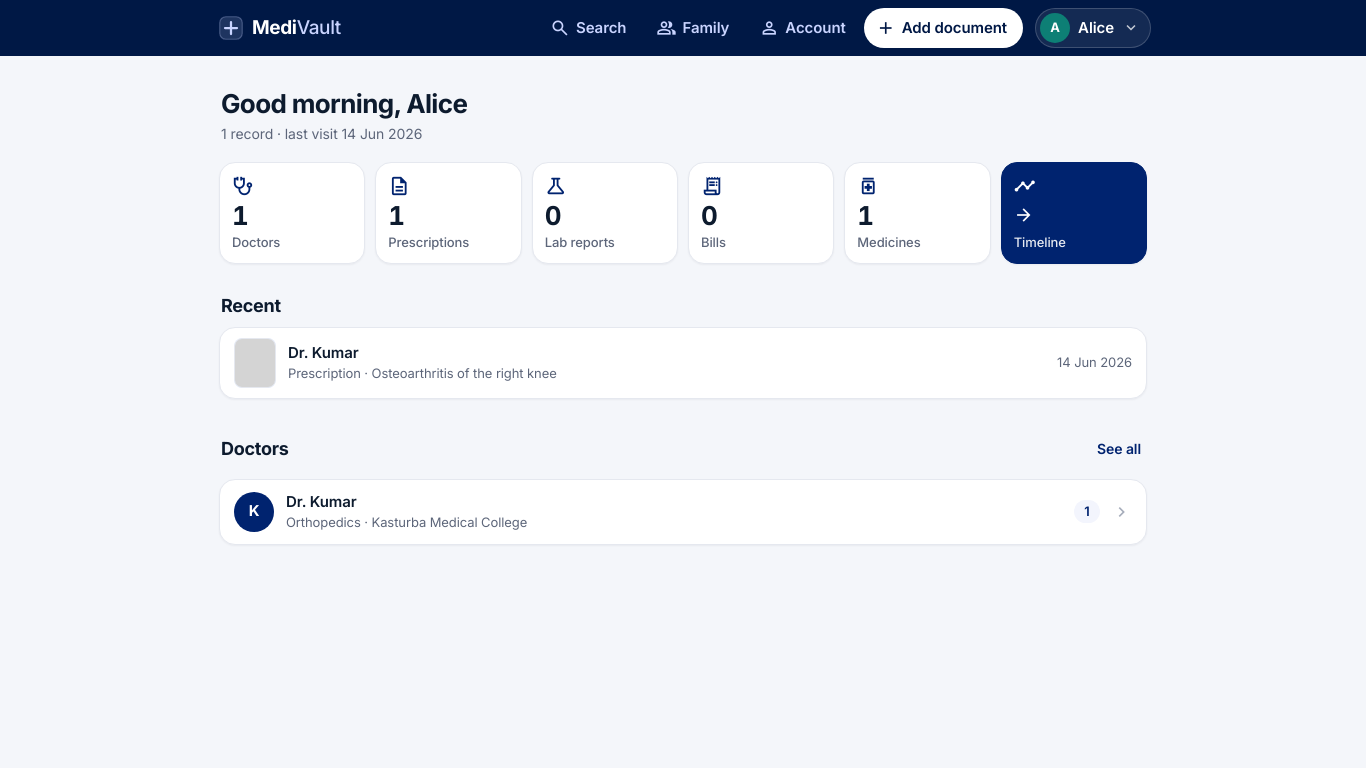
a prescription opens showing its details
Click the button with aria-label "Prescription, Dr. Kumar, 14 Jun 2026": click(255, 363) [220, 328, 1146, 398]
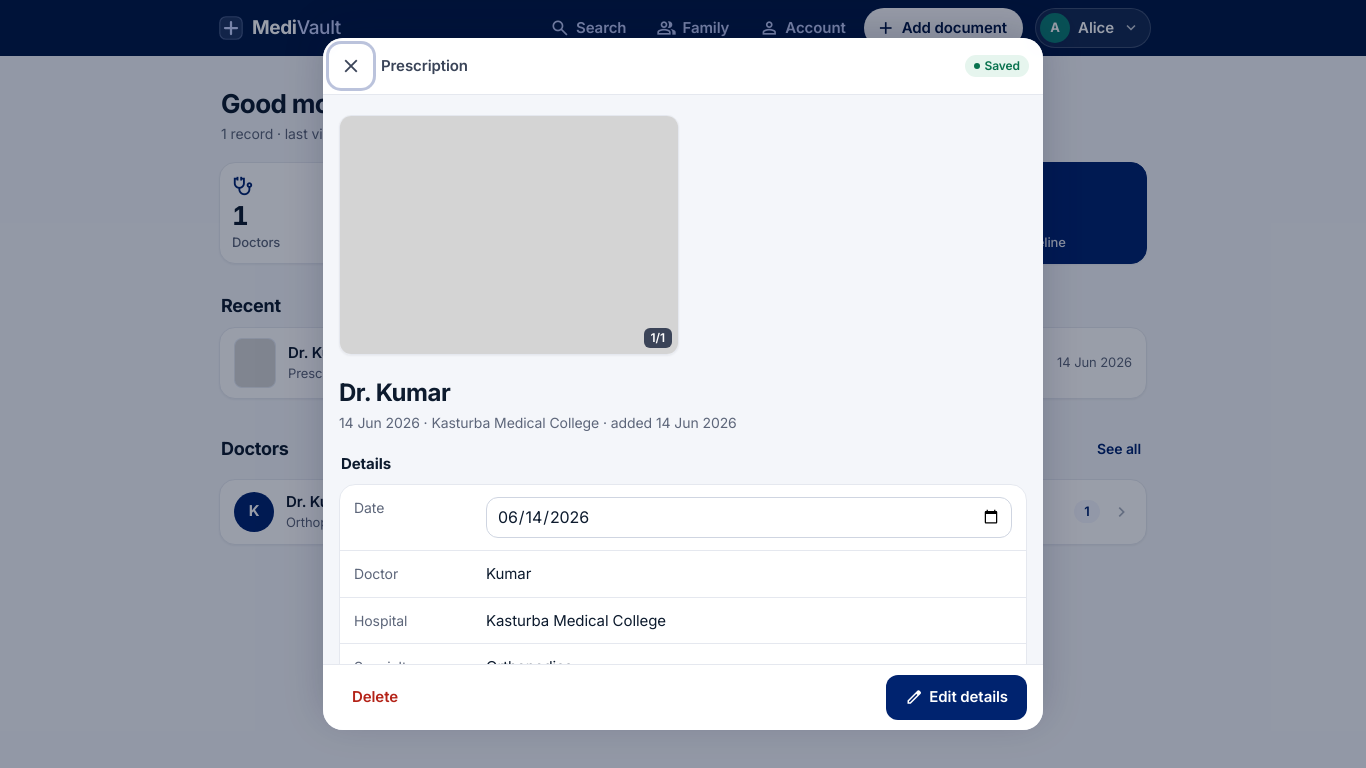
expect the heading "Dr. Kumar" is shown: met, box [339, 378, 450, 407]
expect the text "14 Jun 2026 · Kasturba Medical College · added 14 Jun 2026" is shown: met, box [339, 414, 737, 431]
